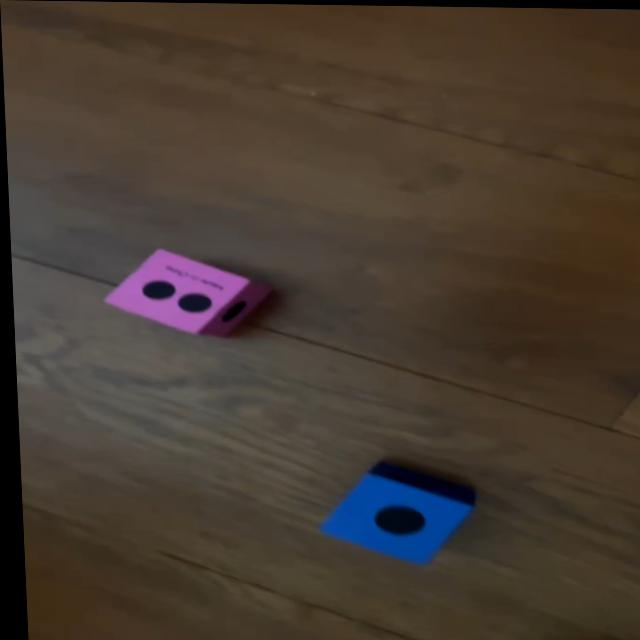blue_block: (316, 461, 471, 563)
